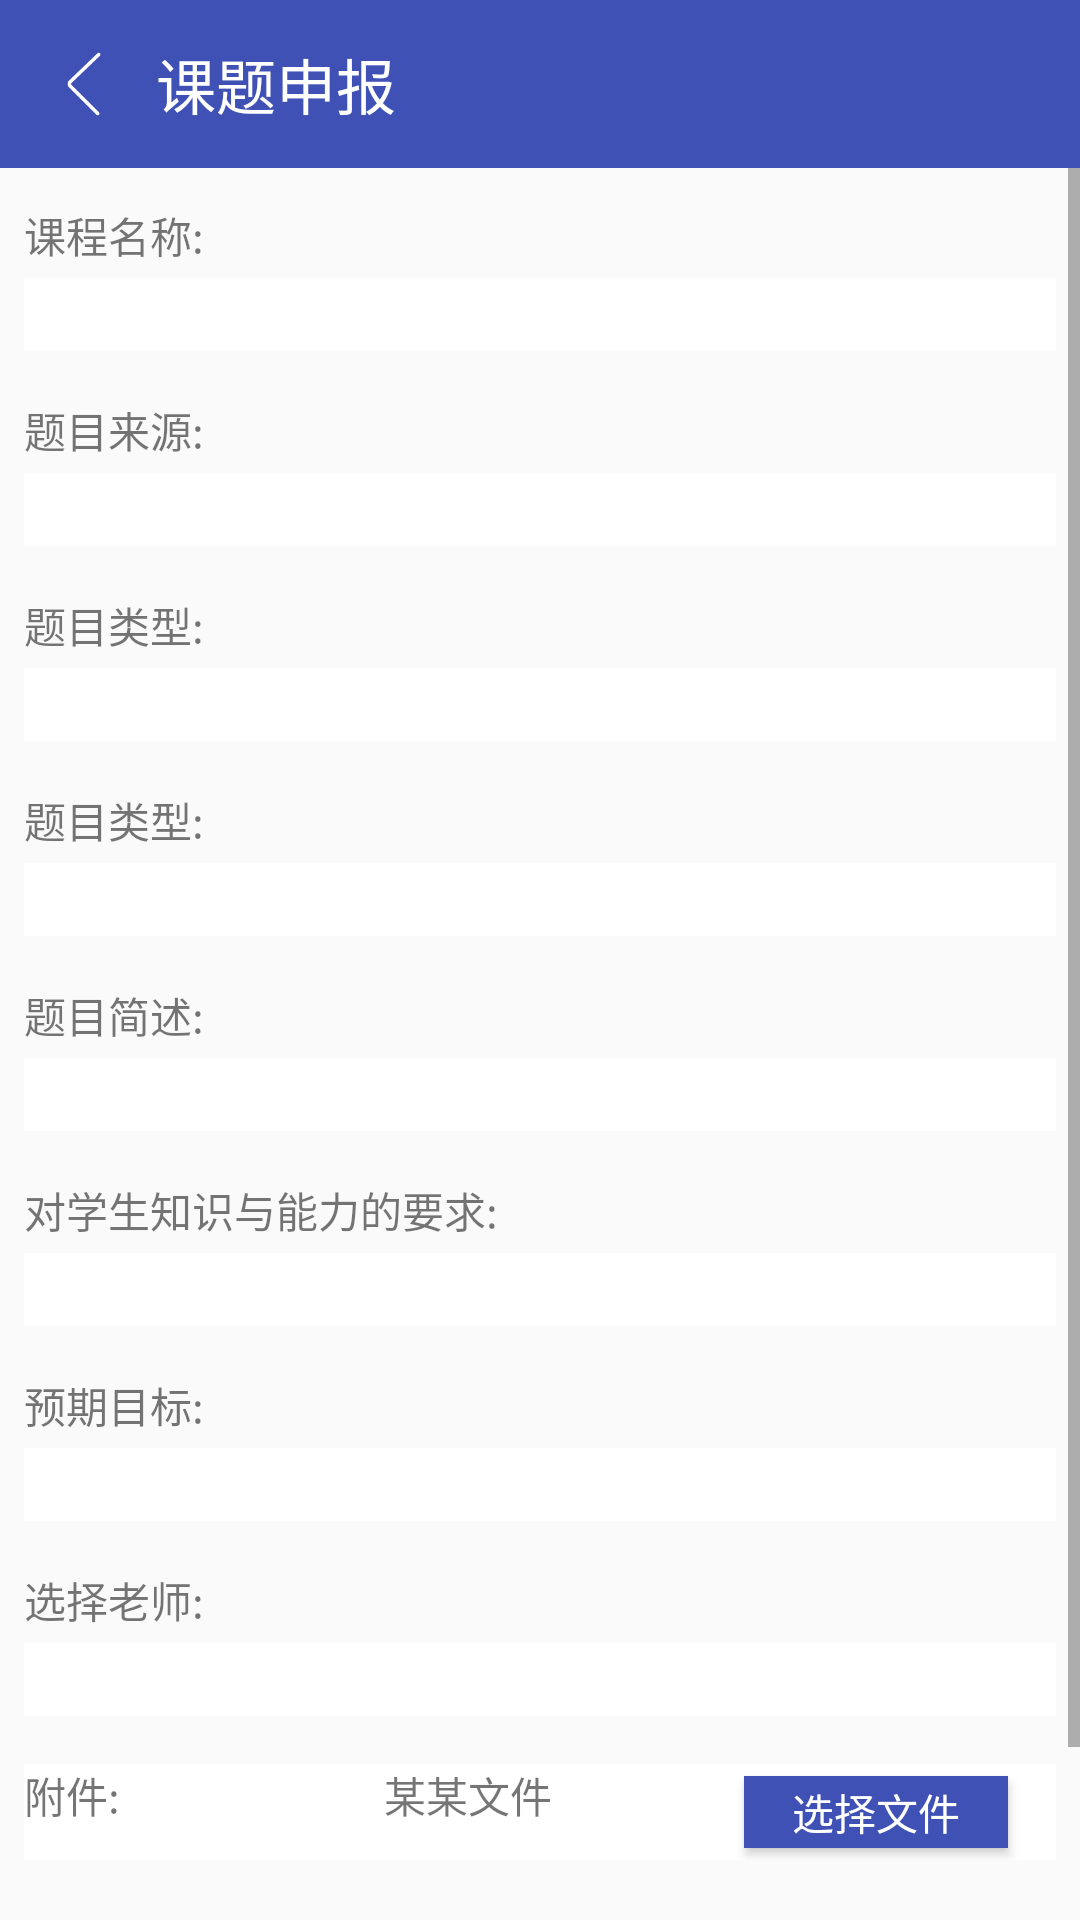

Icons on this 1080x1920 Android screen, each with its box as box=[x1, y1, x2, y2]:
arrowleft: box=[67, 52, 101, 116]
